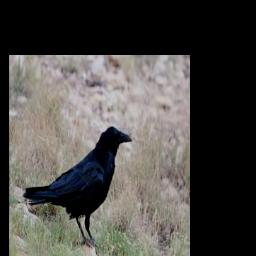Crow: (22, 125, 134, 253)
